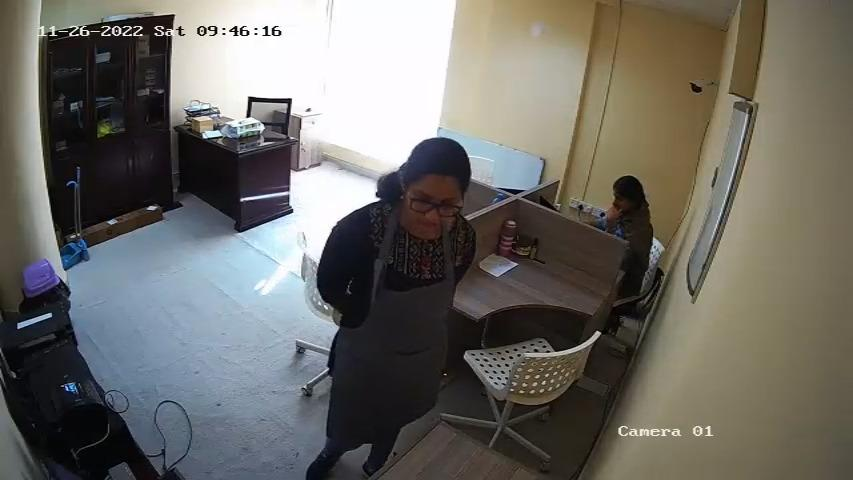apron: (359, 234, 459, 404)
